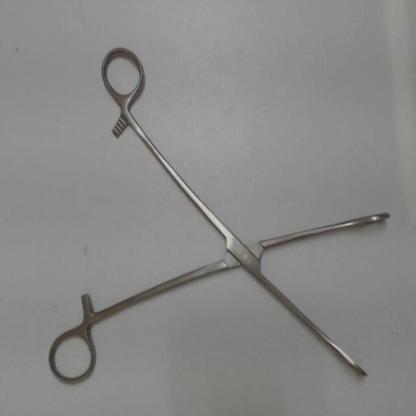Sponge Forceps: (43, 38, 401, 392)
